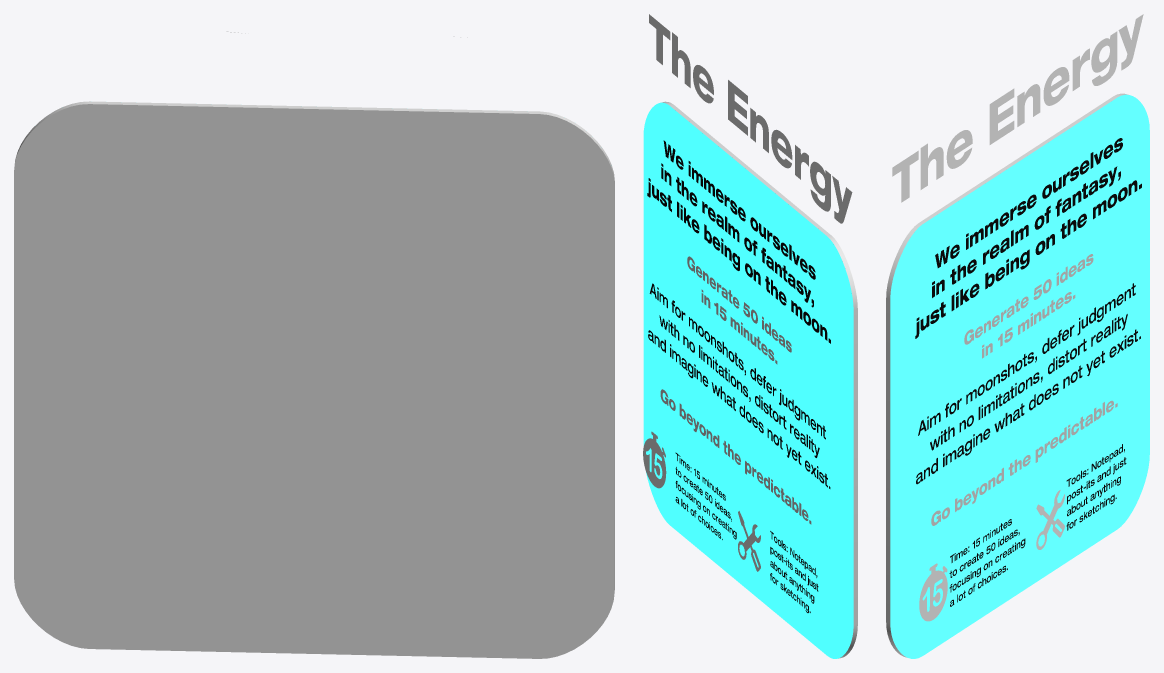
The picture shows the model from 3 angles, left to right: view 1: azimuth 30°, elevation 25°; view 2: azimuth 150°, elevation 25°; view 3: azimuth 270°, elevation 25°; orthographic projection. The views are drawn at different scales.
Parts seen in each view (by area): view 1: Text.001; view 2: Rectangle.005, Text.020, Text.001, Text.024, Text.023, xx.008; view 3: Rectangle.005, Text.020, Text.001, Text.024, Text.023, xx.008.
Part boxes in pixels (<box>): Text.001: <box>14,101,614,658</box>; Rectangle.005: <box>643,102,853,658</box>; Text.020: <box>648,283,830,612</box>; Text.001: <box>660,101,857,658</box>; Text.024: <box>649,14,852,223</box>; Text.023: <box>647,140,830,343</box>; xx.008: <box>643,431,760,571</box>; Rectangle.005: <box>890,94,1149,658</box>; Text.020: <box>916,283,1140,606</box>; Text.001: <box>886,93,1128,657</box>; Text.024: <box>892,14,1143,202</box>; Text.023: <box>915,138,1141,338</box>; xx.008: <box>919,490,1064,621</box>.
Size of the model in its own units: 4.98 by 6.94 by 3.27.
